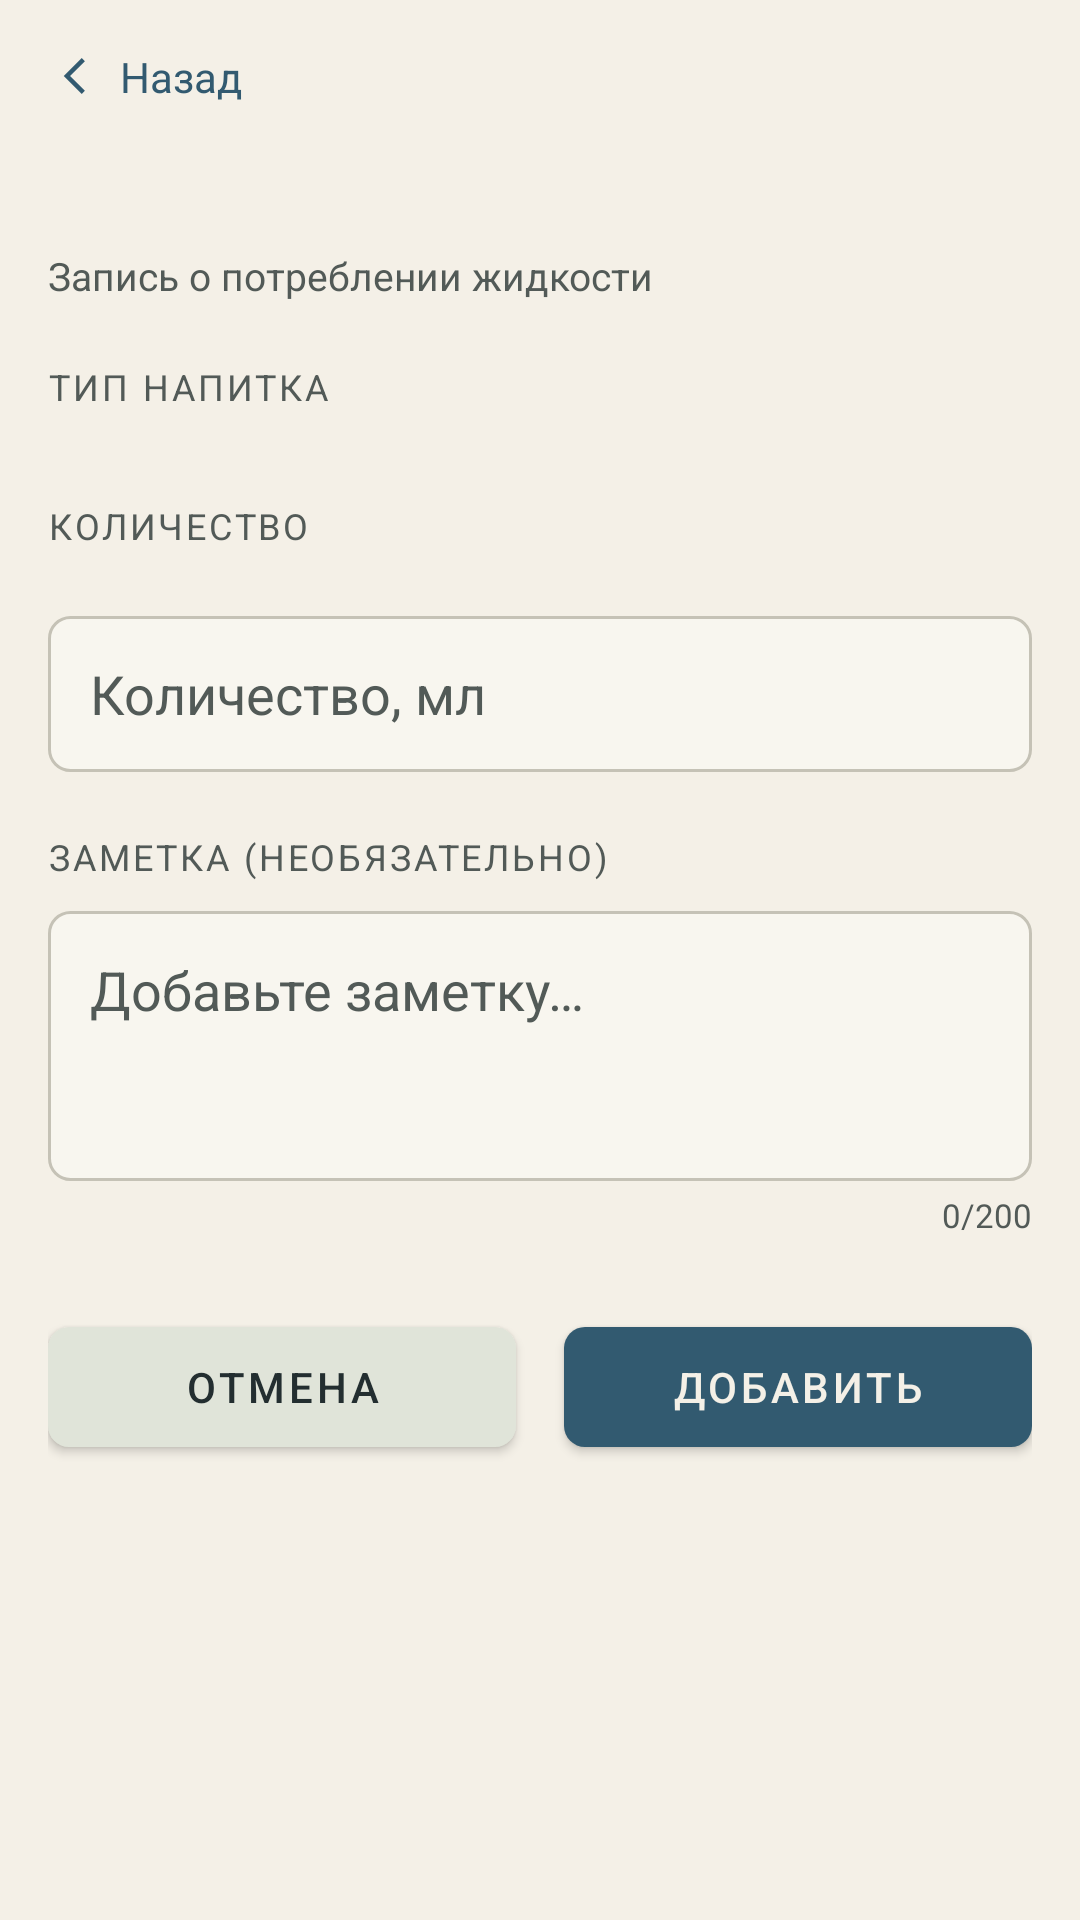

Icons on this 1080px×1920px Android screen, each with the point to tap as (x,y):
back: (74,76)
